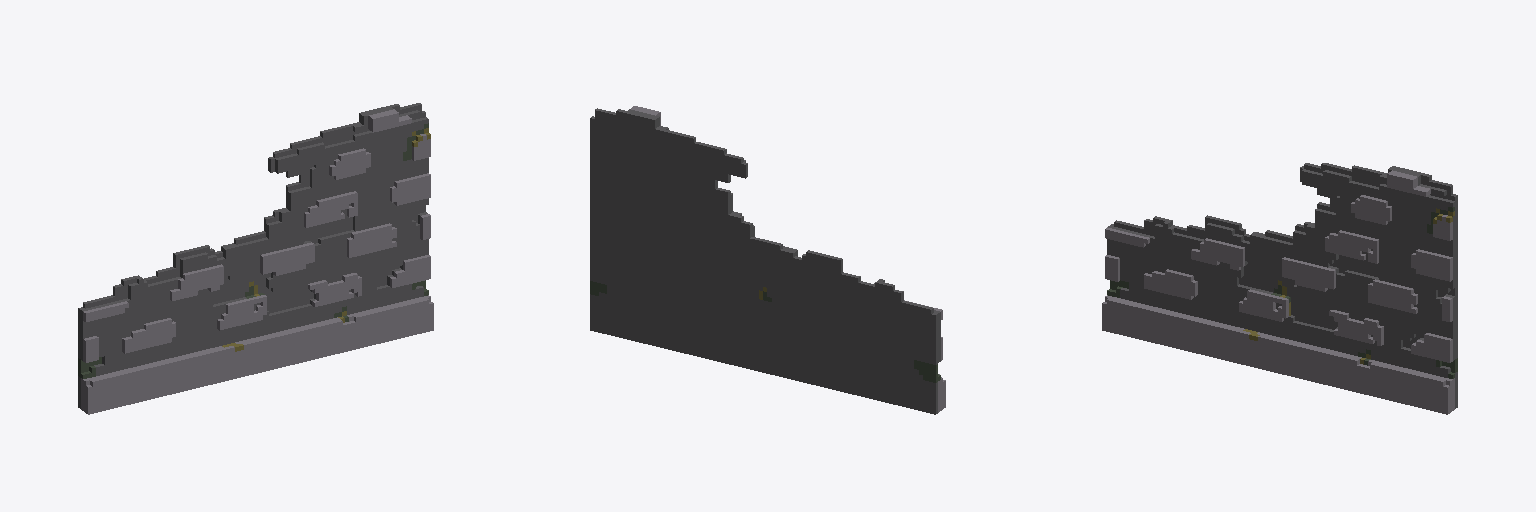
3 renders of one model, left to right at view 1: azimuth 30°, elevation 25°; view 2: azimuth 150°, elevation 25°; view 3: azimuth 330°, elevation 25°, orthographic.
Visible parts, largest first — view 1: HalfWall; view 2: HalfWall; view 3: HalfWall.
Boxes of the visible parts, box(x1,y1,x2,y2) form: HalfWall: box(78, 103, 433, 414); HalfWall: box(590, 106, 945, 414); HalfWall: box(1102, 163, 1457, 414).
Size of the model in its own units: 8 by 5 by 0.4.
1 materials, 1 textured.